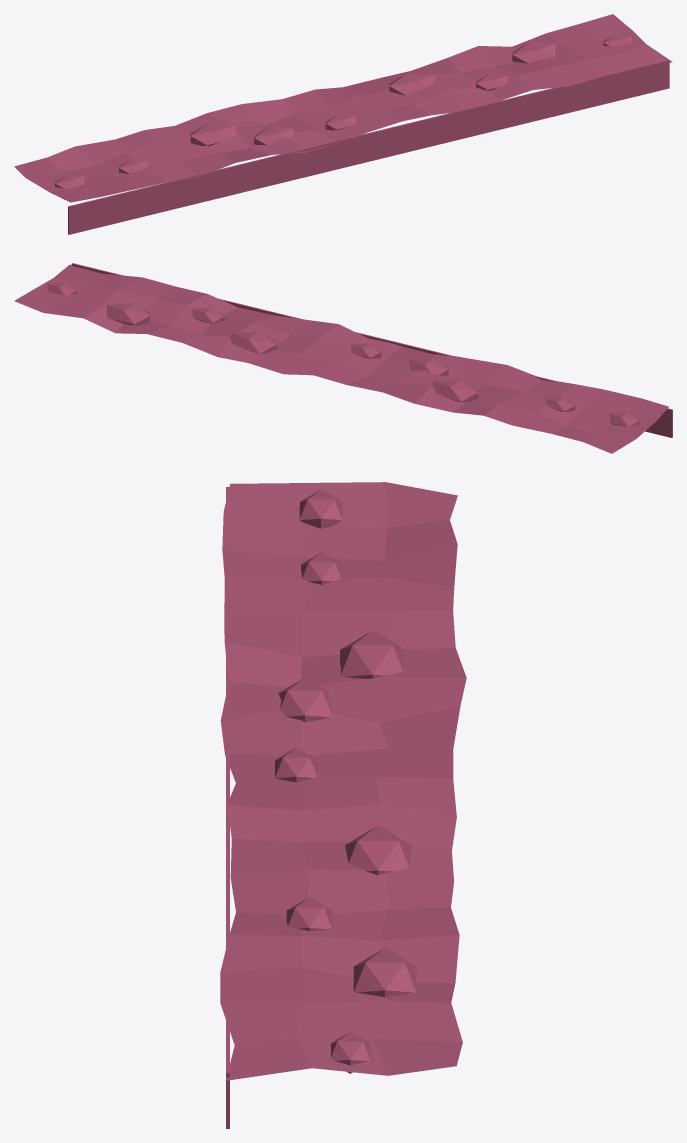
File: seabed.glb
3 views of the same model, one above another, from view 1: azimuth 30°, elevation 25°; view 2: azimuth 150°, elevation 25°; view 3: azimuth 270°, elevation 25° (orthographic). The views are drawn at different scales.
Parts seen in each view (by area): view 1: Floor, Front, Lump2, Lump7, Lump5, Lump3, Lump6, Lump4; view 2: Floor, Front, Lump2, Lump7, Lump5, Lump3, Lump6, Lump4, Lump0, Lump1, Lump8; view 3: Floor, Lump7, Lump2, Lump5, Lump3, Front, Lump0, Lump6, Lump4, Lump8, Lump1.
Part boxes in pixels (bbox=[...]): Floor: bbox=[14, 14, 672, 202]; Front: bbox=[68, 59, 669, 234]; Lump2: bbox=[190, 123, 235, 145]; Lump7: bbox=[512, 42, 555, 63]; Lump5: bbox=[389, 73, 435, 95]; Lump3: bbox=[254, 127, 292, 144]; Lump6: bbox=[476, 74, 507, 90]; Lump4: bbox=[325, 115, 355, 130]; Floor: bbox=[14, 264, 668, 453]; Front: bbox=[71, 263, 672, 437]; Lump2: bbox=[433, 379, 478, 402]; Lump7: bbox=[107, 303, 150, 325]; Lump5: bbox=[230, 331, 276, 354]; Lump3: bbox=[409, 358, 448, 375]; Lump6: bbox=[192, 307, 224, 323]; Lump4: bbox=[351, 343, 381, 358]; Lump0: bbox=[609, 412, 639, 426]; Lump1: bbox=[546, 397, 575, 411]; Lump8: bbox=[47, 282, 76, 295]; Floor: bbox=[220, 482, 466, 1080]; Lump7: bbox=[353, 948, 416, 997]; Lump2: bbox=[340, 630, 405, 678]; Lump5: bbox=[345, 825, 411, 875]; Lump3: bbox=[278, 677, 332, 722]; Front: bbox=[226, 487, 229, 1128]; Lump0: bbox=[299, 489, 342, 528]; Lump6: bbox=[286, 897, 332, 931]; Lump4: bbox=[275, 747, 317, 782]; Lump8: bbox=[331, 1031, 370, 1073]; Lump1: bbox=[301, 552, 342, 584].
Size of the model in its own units: 18.2 by 1.06 by 3.2.
